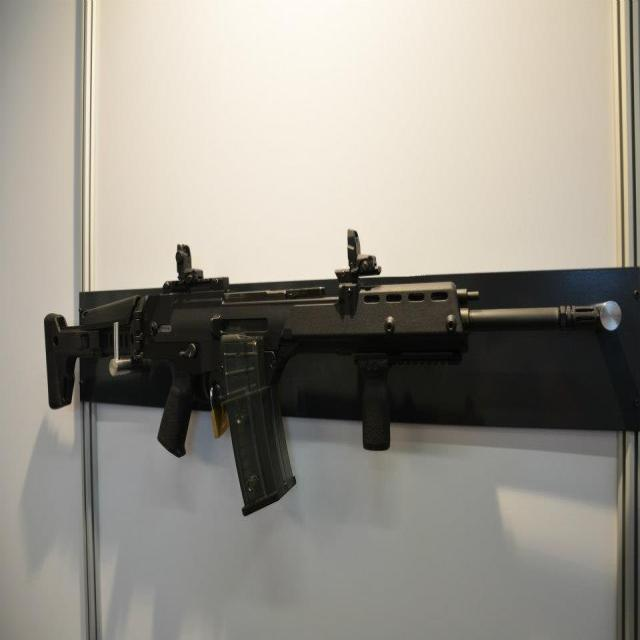firearm: (42, 227, 600, 520)
